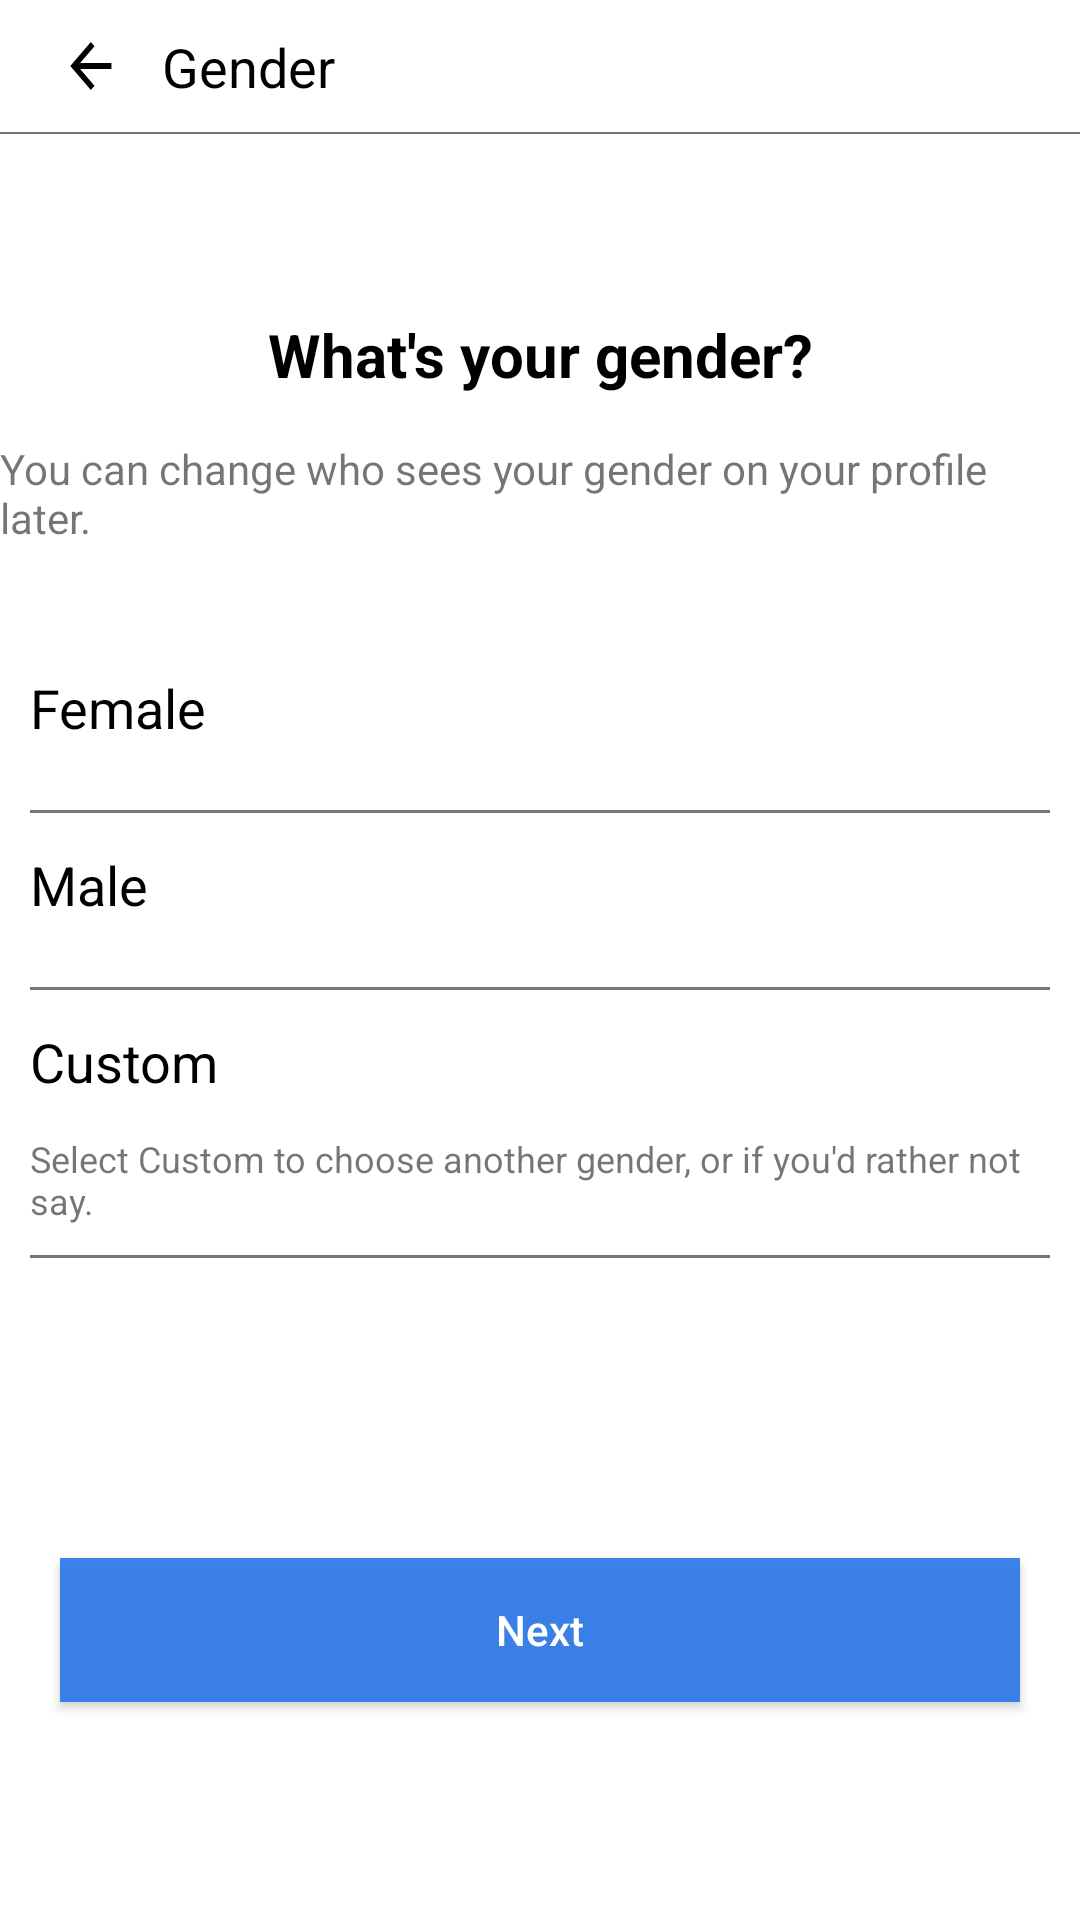

Icon bounding boxes for this 1080px×1920px phone screenshot, format (x1, y1, x2, y2):
arrow back: (70, 42, 112, 90)
